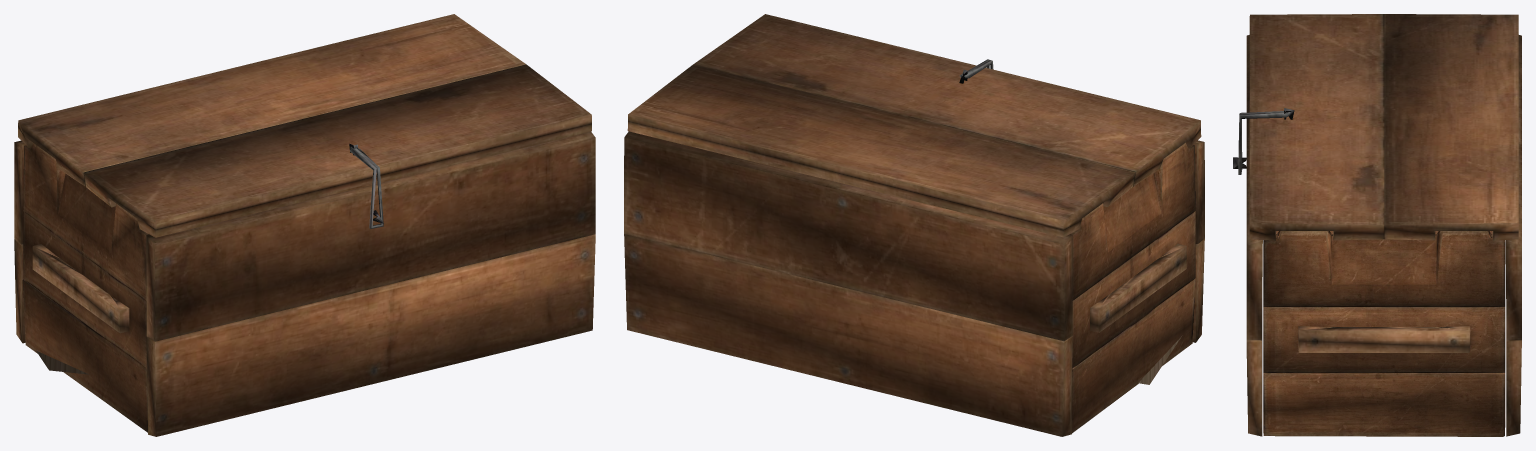
The model's file is crate-lod.glb.
3 views of the same model, side by side, from view 1: azimuth 30°, elevation 25°; view 2: azimuth 150°, elevation 25°; view 3: azimuth 270°, elevation 25° (orthographic). The views are drawn at different scales.
Parts seen in each view (by area): view 1: wooden_crate_01, wooden_crate_01_lid, wooden_crate_01_latch; view 2: wooden_crate_01, wooden_crate_01_lid; view 3: wooden_crate_01_lid, wooden_crate_01, wooden_crate_01_latch.
Boxes of the visible parts, box(x1,y1,x2,y2) form: wooden_crate_01: box(14, 131, 595, 436); wooden_crate_01_lid: box(18, 14, 591, 237); wooden_crate_01_latch: box(350, 146, 383, 228); wooden_crate_01: box(624, 131, 1204, 436); wooden_crate_01_lid: box(627, 14, 1201, 237); wooden_crate_01_lid: box(1249, 14, 1518, 240); wooden_crate_01: box(1233, 35, 1521, 436); wooden_crate_01_latch: box(1238, 111, 1290, 174).
Size of the model in its own units: 0.7511 by 0.3468 by 0.4043.
1 material, 1 textured.
